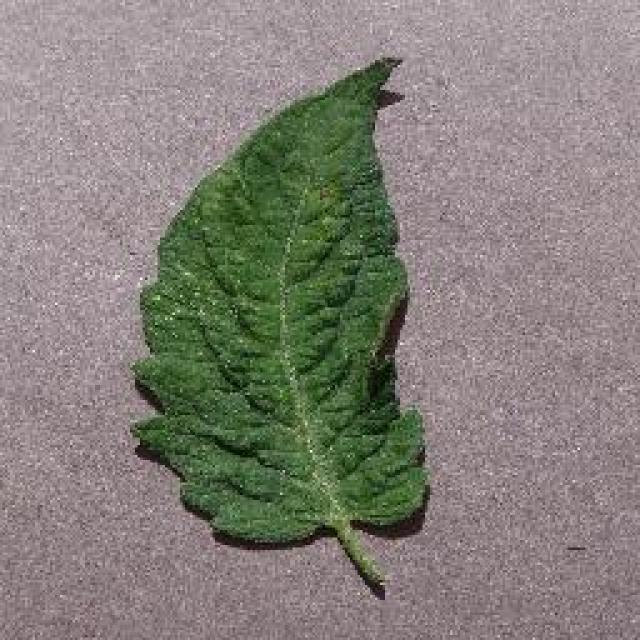Tomato___Spider_mites Two-spotted_spider_mite: (132, 58, 428, 588)
